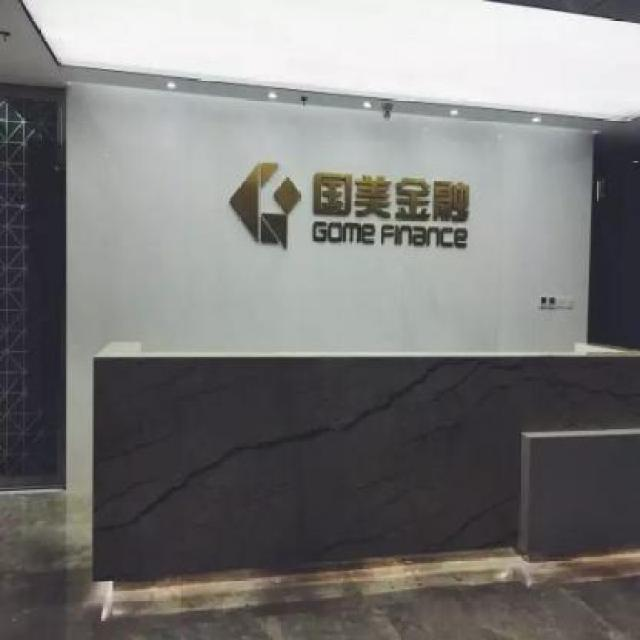frontdesk: (69, 317, 640, 611)
